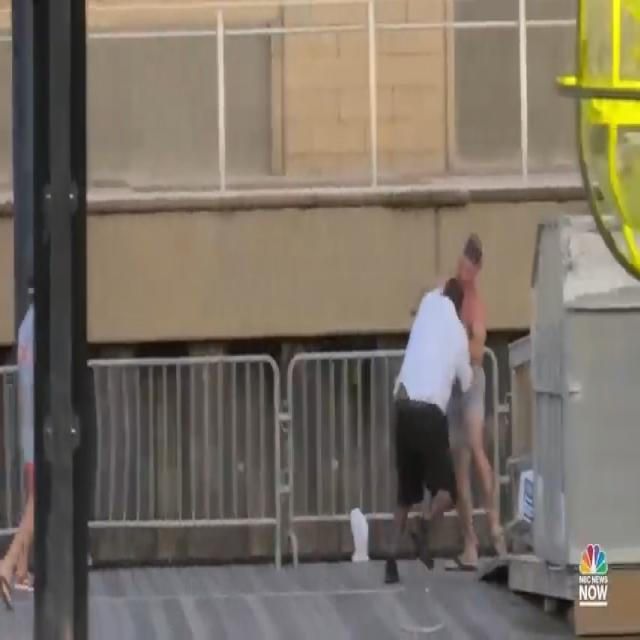fight: (382, 230, 514, 587)
non-fight: (0, 256, 37, 609)
